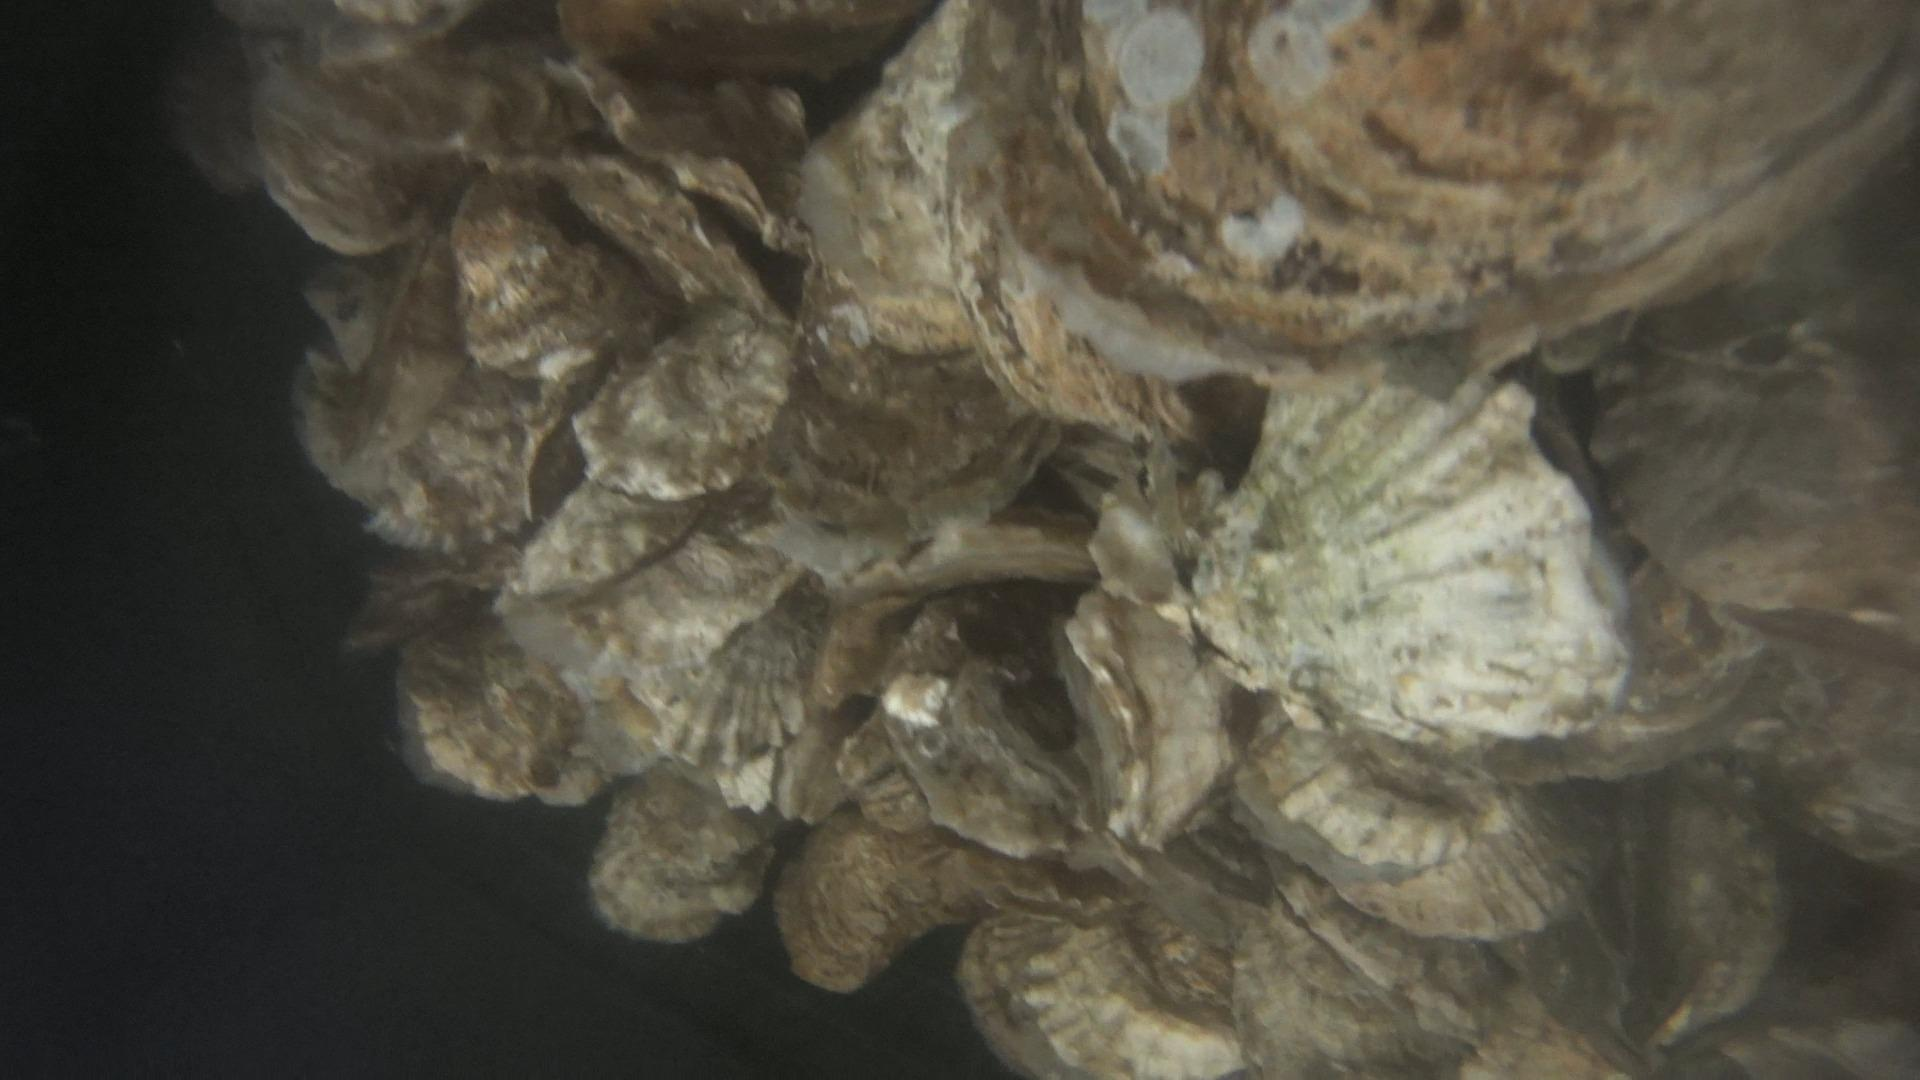Oyster-Closed: (1237, 727, 1551, 936)
Oyster-Open: (1193, 353, 1643, 741), (1592, 262, 1920, 622), (1055, 588, 1220, 845), (1625, 779, 1779, 1048), (765, 828, 977, 998), (585, 770, 771, 945)
